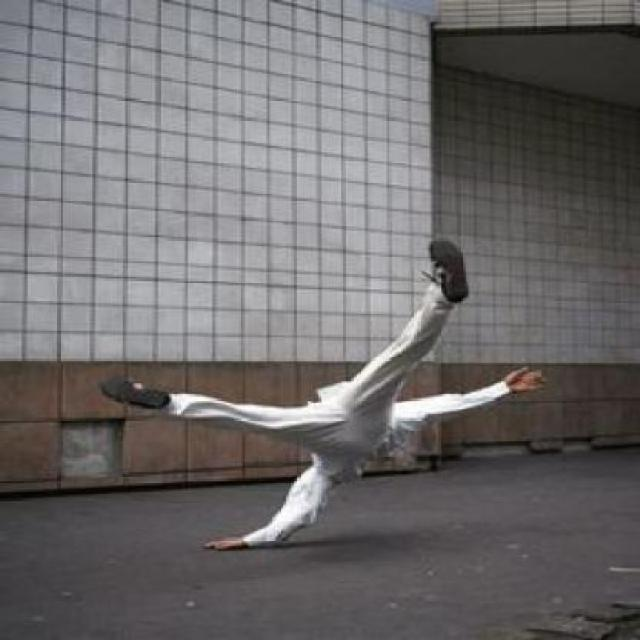fall: (98, 235, 548, 558)
